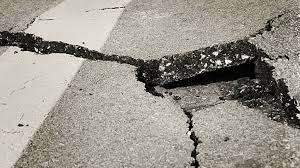Pothole: (5, 17, 299, 164)
